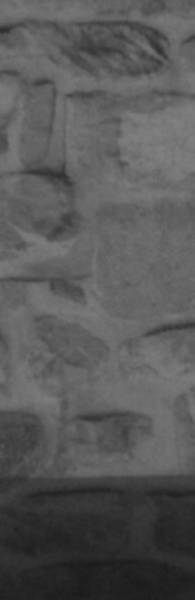water: (0, 477, 195, 600)
